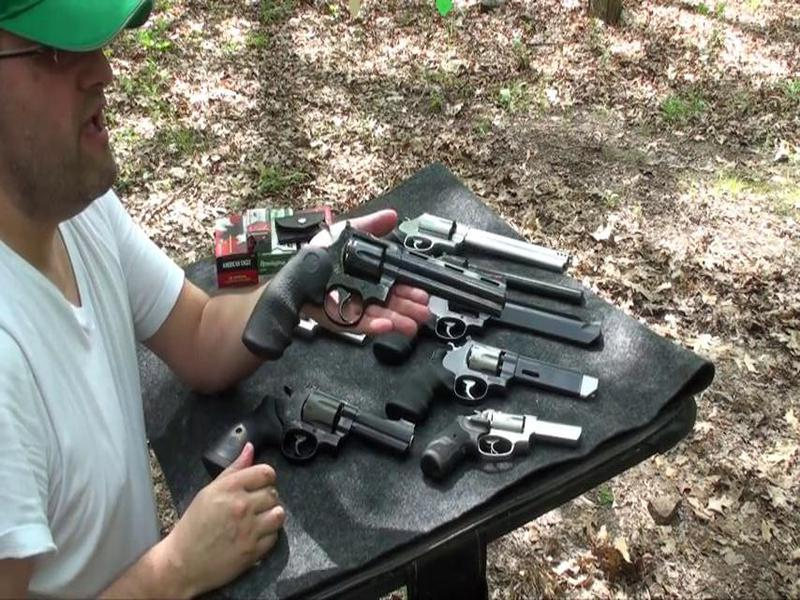Revolver: (257, 217, 509, 359)
